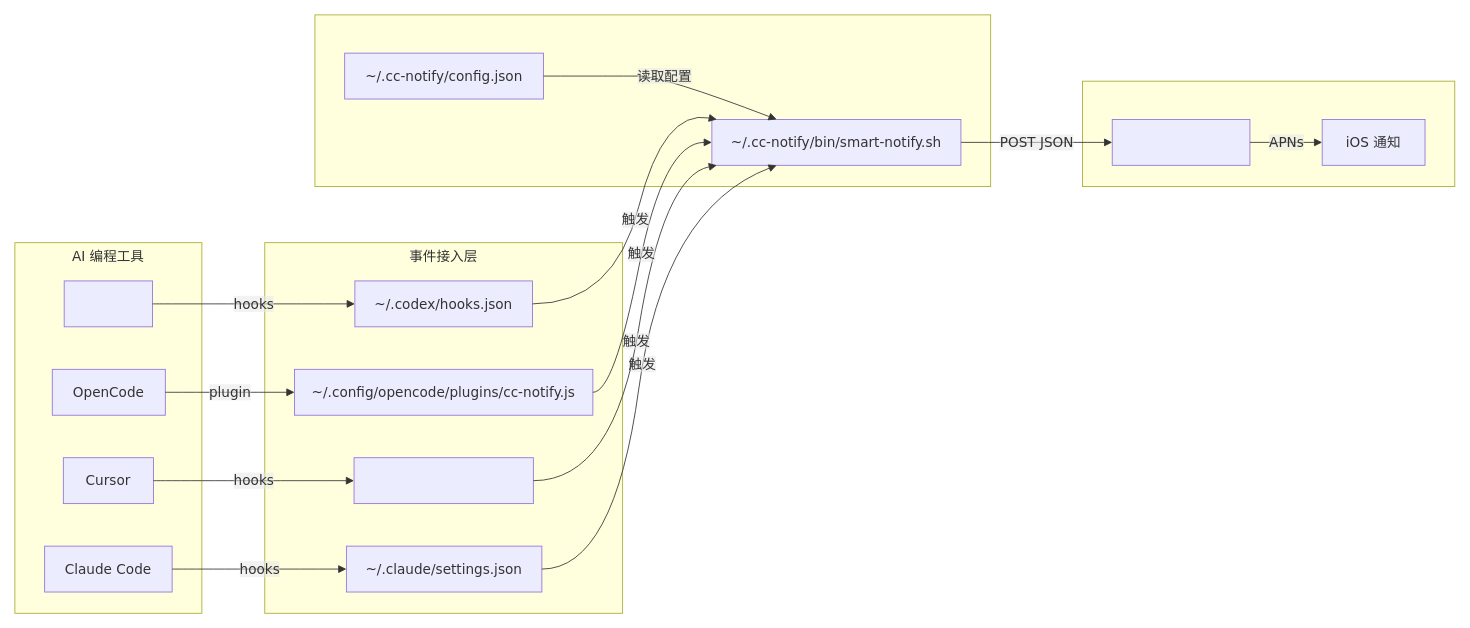
The diagram is 1470 pixels wide and 628 high, and some of its shapes have lost their labels. Each missing label, with the box of its shape:
Bark 推送服务: (1111, 119, 1250, 165)
Codex: (63, 280, 153, 327)
~/.cursor/hooks.json: (353, 457, 533, 504)
推送通道: (1082, 80, 1455, 187)
核心通知层: (314, 14, 991, 187)
